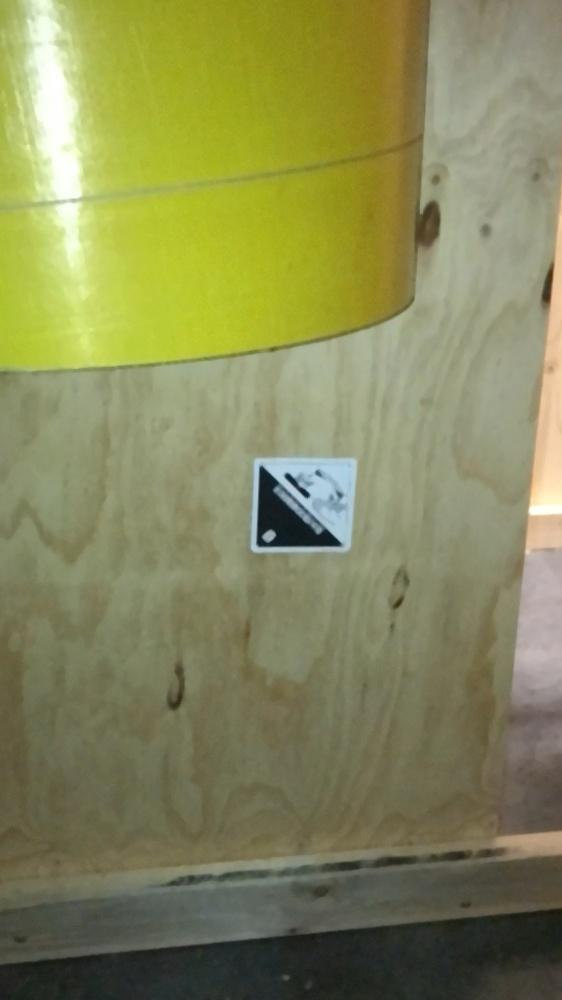corrosive: (249, 452, 359, 556)
